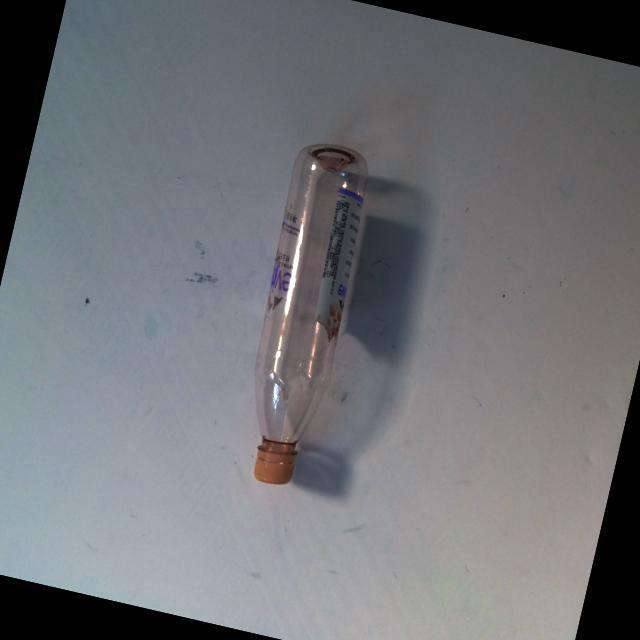plastic: (186, 94, 452, 526)
